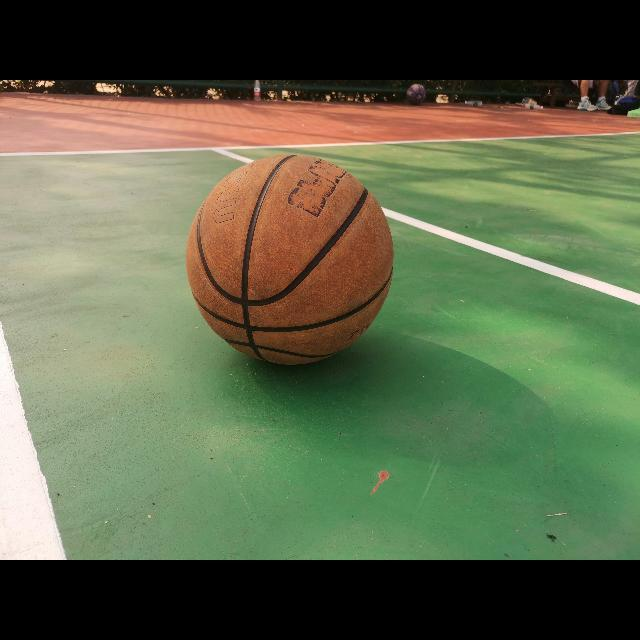basketball: (188, 154, 394, 366)
